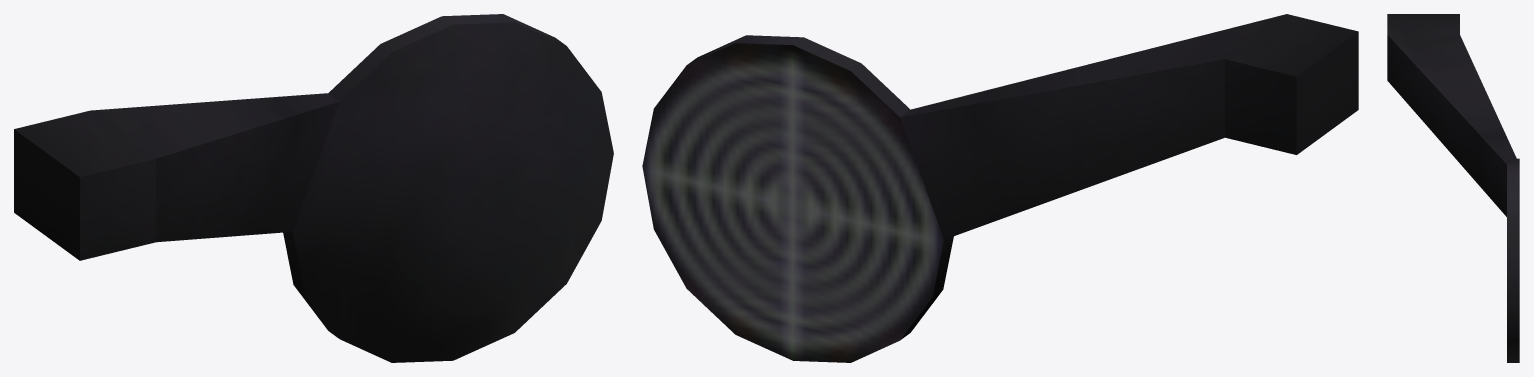
Rendered from sam_cover2.obj.
3 renders of one model, left to right at view 1: azimuth 30°, elevation 25°; view 2: azimuth 150°, elevation 25°; view 3: azimuth 270°, elevation 25°, orthographic. The views are drawn at different scales.
Parts seen in each view (by area): view 1: cover_2_cover_02_Cylinder; view 2: cover_2_cover_02_Cylinder; view 3: cover_2_cover_02_Cylinder.
Part boxes in pixels (box(x1,y1,x2,y2)): cover_2_cover_02_Cylinder: box(14, 14, 613, 362); cover_2_cover_02_Cylinder: box(642, 14, 1358, 362); cover_2_cover_02_Cylinder: box(1387, 14, 1519, 362).
Size of the model in its own units: 0.1353 by 0.0765 by 0.0438.
